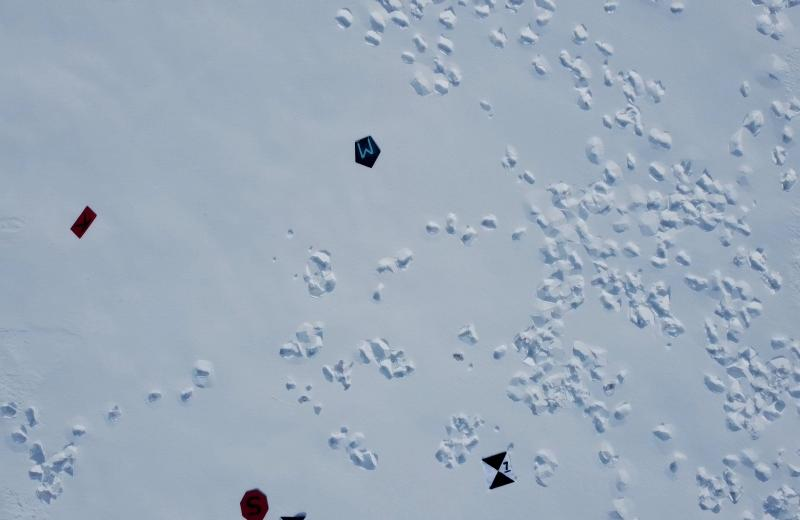Octagon: (238, 488, 269, 520)
Pentagon: (350, 133, 383, 172)
Rectangle: (68, 205, 99, 241)
